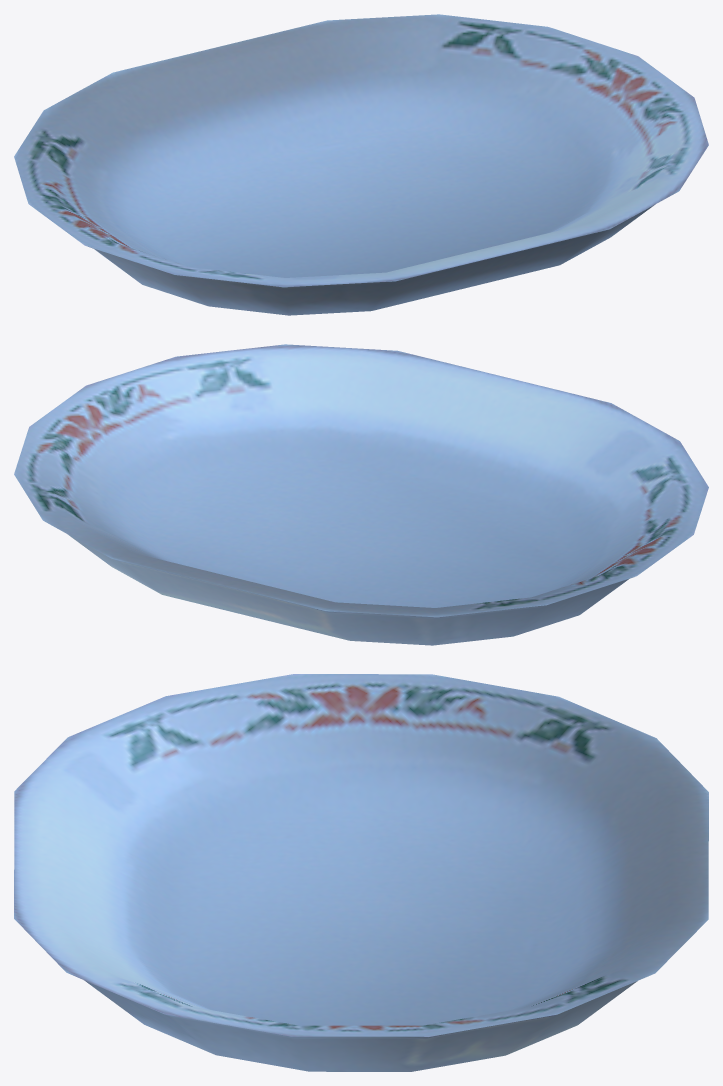
Rendered from dish-4.FBX.
3 views of the same model, one above another, from view 1: azimuth 30°, elevation 25°; view 2: azimuth 150°, elevation 25°; view 3: azimuth 270°, elevation 25° (orthographic). The views are drawn at different scales.
Parts seen in each view (by area): view 1: Line01; view 2: Line01; view 3: Line01.
Part boxes in pixels (x1=…): Line01: x1=14, y1=14, x2=708, y2=315; Line01: x1=14, y1=344, x2=708, y2=645; Line01: x1=14, y1=674, x2=708, y2=1071.
Bounding box in the file's own units: 25.09 × 2.99 × 20.32.
